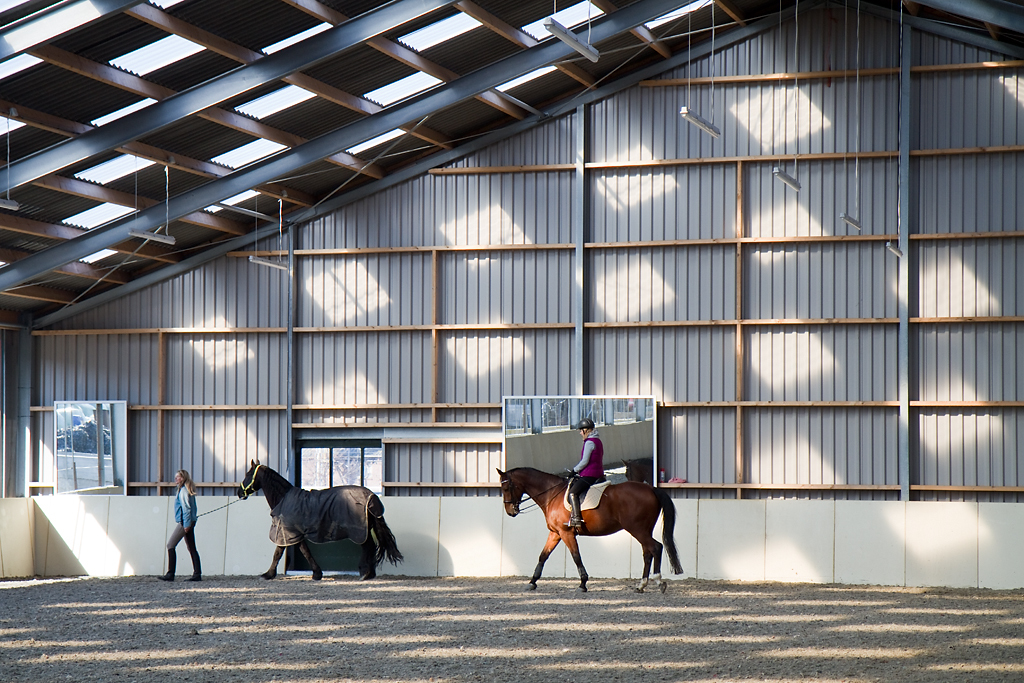Person: (154, 469, 199, 584), (562, 417, 608, 527)
